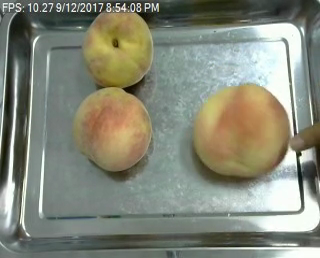Peach: (194, 83, 291, 178), (73, 85, 151, 171), (82, 6, 154, 87)
